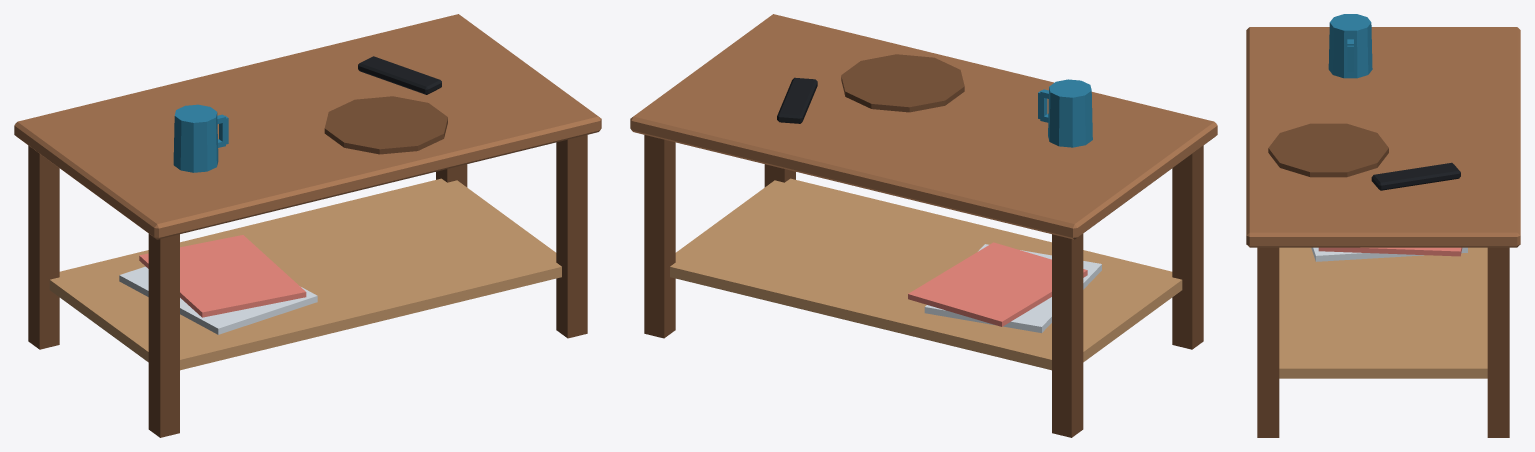
The model's file is coffee_table.glb.
The picture shows the model from 3 angles, left to right: view 1: azimuth 30°, elevation 25°; view 2: azimuth 150°, elevation 25°; view 3: azimuth 270°, elevation 25°; orthographic projection. The views are drawn at different scales.
Visible parts, largest first — view 1: CoffeeTable; view 2: CoffeeTable; view 3: CoffeeTable.
Boxes of the visible parts, box(x1,y1,x2,y2) form: CoffeeTable: box(14, 14, 601, 437); CoffeeTable: box(630, 14, 1217, 437); CoffeeTable: box(1246, 14, 1520, 437).
Size of the model in its own units: 0.9 by 0.515 by 0.5.
